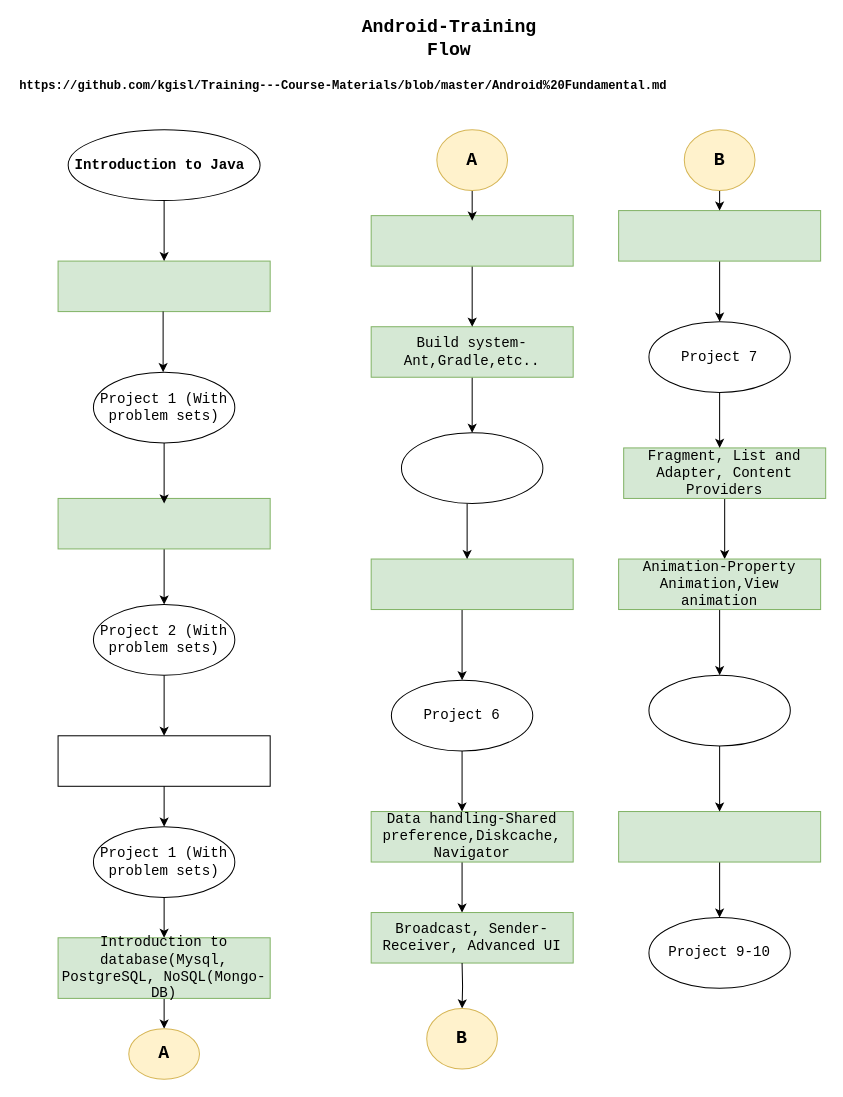
This 843x1097 diagram has some shape labels left out. The shapes that lost their labels are listed below. From the top down, each one's centre as x and y in pixels, then its label:
the point at 471,240: Android Fundamentals(View, Actions, Indent)
the point at 719,235: Networking-(RESTFul-Client), Internal Database
the point at 163,286: Fundamentals of Java (Variables, Conditional Statements)
the point at 471,467: Project 1 - 5
the point at 163,523: Advanced Java (OOps, Design Patterns)
the point at 471,584: Android Design-Material design, Activities
the point at 719,710: Project 8
the point at 163,760: Introduction to Basics of XML
the point at 719,836: Localization, Testing Overview
